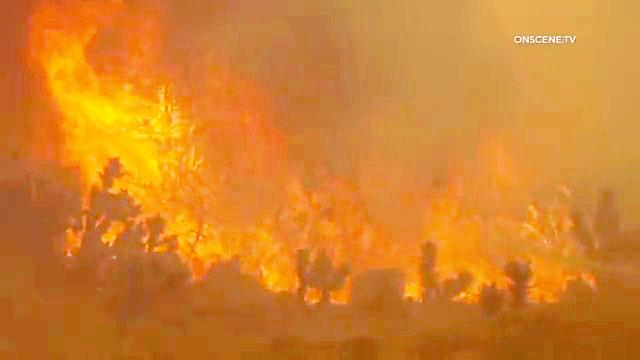fire: (22, 10, 229, 259)
